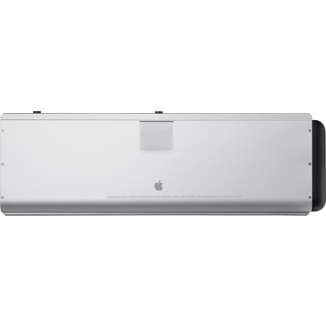Apple: (150, 177, 171, 199)
